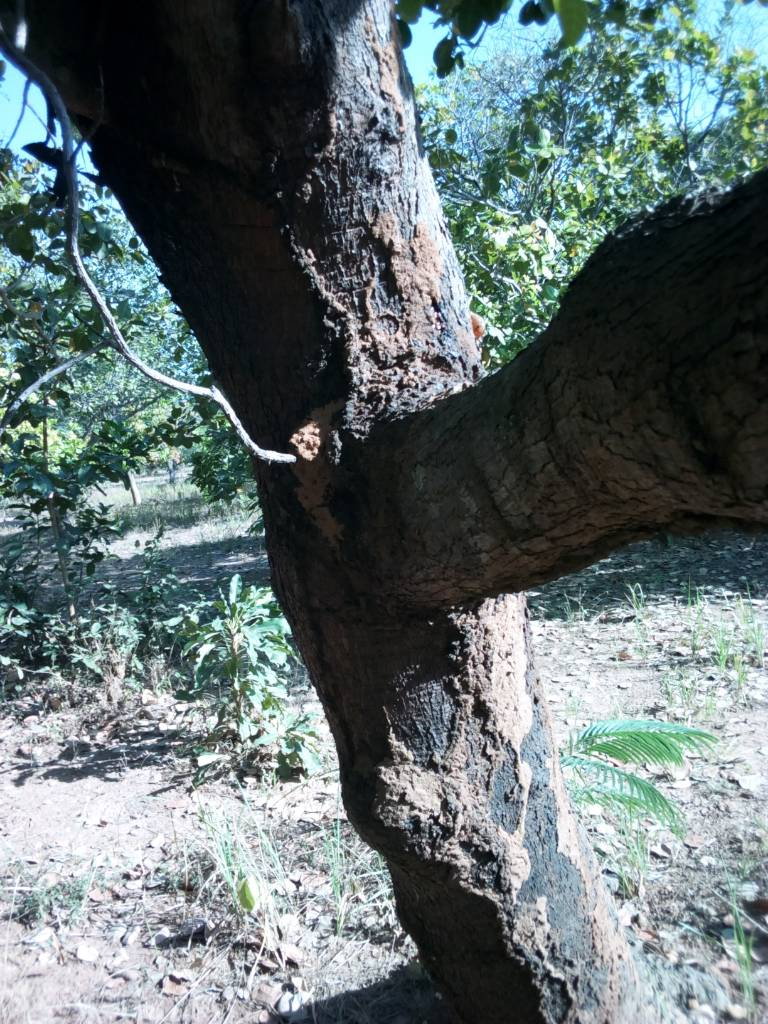Termites: (357, 605, 546, 964), (258, 182, 447, 405), (563, 836, 636, 1024)
